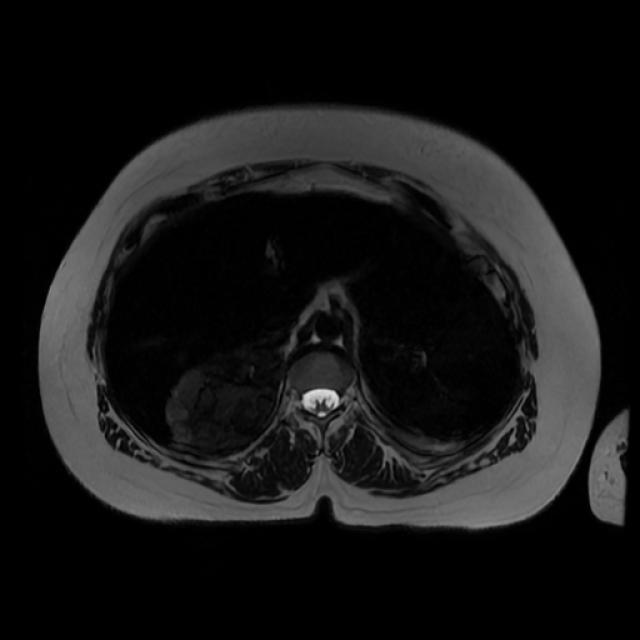sag: (166, 346, 286, 449)
sol: (363, 332, 450, 430)
